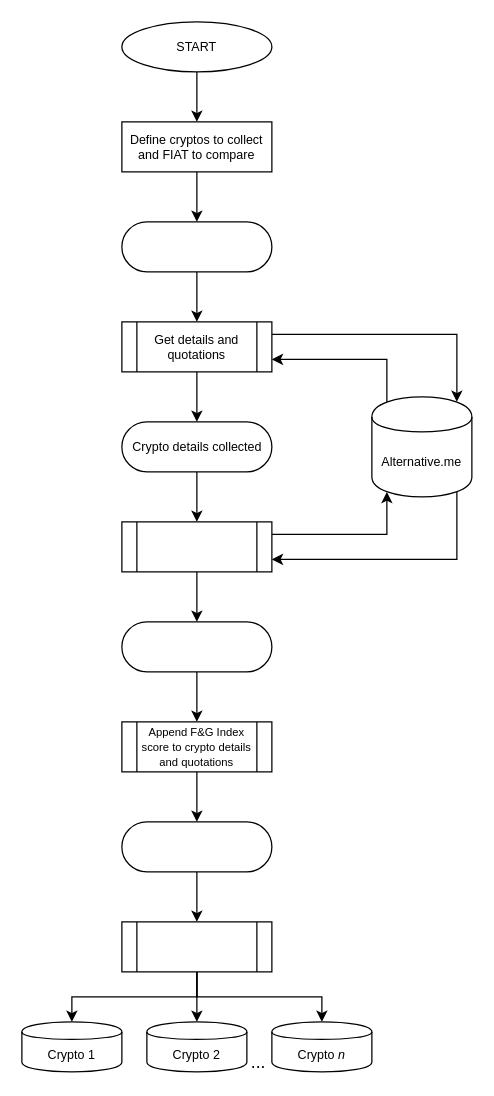
Image size: 494x1096. Some labels were removed from this diagram. Each missing label, with the centre of its shape:
"Complete DB created" goes at (x=196, y=846).
"Crypto details defined" goes at (x=196, y=246).
"F&G Index score collected" goes at (x=196, y=646).
"Get F&G Index score" goes at (x=196, y=546).
"Split each collected crypto to separate DB" goes at (x=196, y=946).
